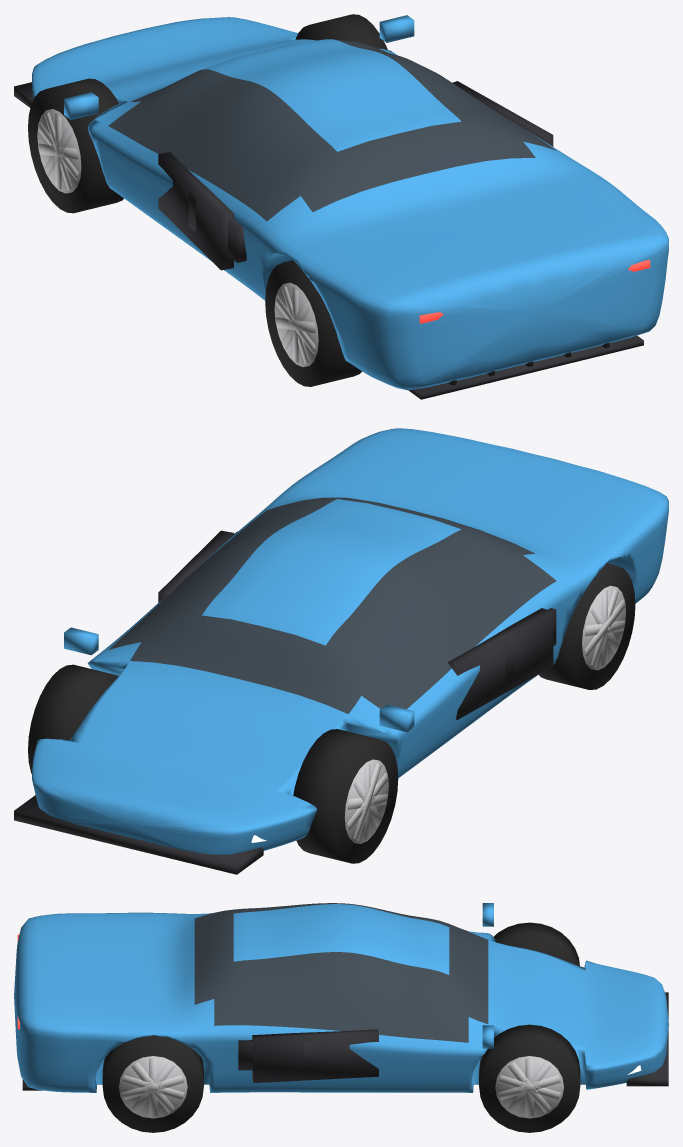
The model's file is vortex_rs.glb.
3 views of the same model, one above another, from view 1: azimuth 30°, elevation 25°; view 2: azimuth 150°, elevation 25°; view 3: azimuth 270°, elevation 25° (orthographic). The views are drawn at different scales.
Parts seen in each view (by area): view 1: Body, Wheel_FL, Wheel_RL, Wheel_FR; view 2: Body, Wheel_FL, Wheel_RL, Wheel_FR; view 3: Body, Wheel_FR, Wheel_RR, Wheel_FL.
Boxes of the visible parts, x1=… form: Body: x1=14, y1=15, x2=668, y2=399; Wheel_FL: x1=28, y1=78, x2=123, y2=213; Wheel_RL: x1=265, y1=260, x2=361, y2=386; Wheel_FR: x1=295, y1=14, x2=387, y2=49; Body: x1=14, y1=428, x2=668, y2=874; Wheel_FL: x1=293, y1=729, x2=398, y2=863; Wheel_RL: x1=539, y1=563, x2=635, y2=689; Wheel_FR: x1=28, y1=664, x2=118, y2=773; Body: x1=14, y1=903, x2=668, y2=1092; Wheel_FR: x1=479, y1=1024, x2=580, y2=1132; Wheel_RR: x1=102, y1=1035, x2=203, y2=1132; Wheel_FL: x1=493, y1=922, x2=579, y2=965.
Size of the model in its own units: 2.24 by 1.18 by 4.66.
